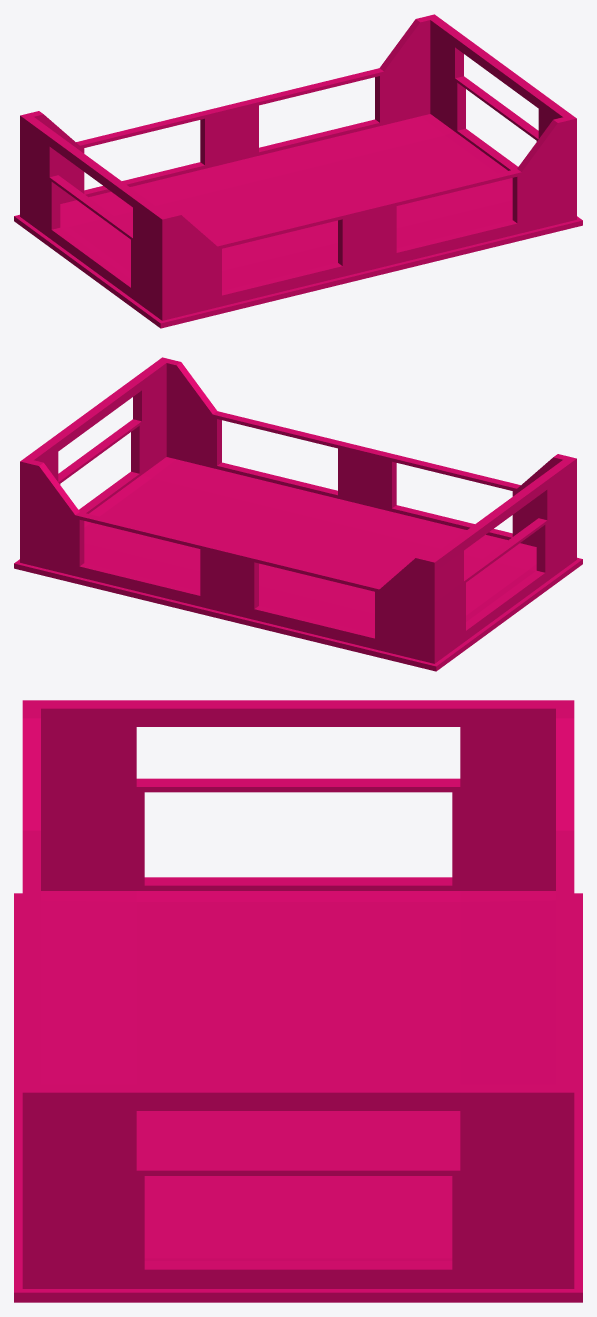
The model's file is Plastic_Crate_01_Lod0.fbx.
3 views of the same model, one above another, from view 1: azimuth 30°, elevation 25°; view 2: azimuth 150°, elevation 25°; view 3: azimuth 270°, elevation 25° (orthographic). The views are drawn at different scales.
Visible parts, largest first — view 1: Plastic_Crate_01_Lod0; view 2: Plastic_Crate_01_Lod0; view 3: Plastic_Crate_01_Lod0.
Boxes of the visible parts, bbox=[...] form: Plastic_Crate_01_Lod0: bbox=[14, 14, 582, 328]; Plastic_Crate_01_Lod0: bbox=[14, 357, 582, 671]; Plastic_Crate_01_Lod0: bbox=[14, 700, 582, 1302].
Size of the model in its own units: 58.74 by 14.14 by 35.35.
